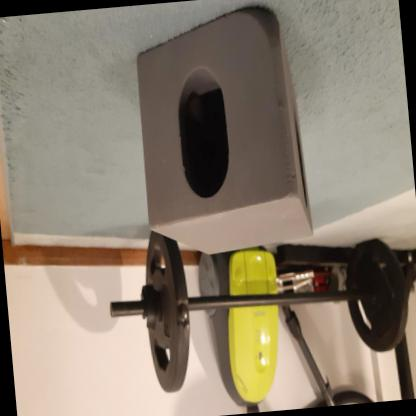CornerCasting: (126, 2, 317, 262)
